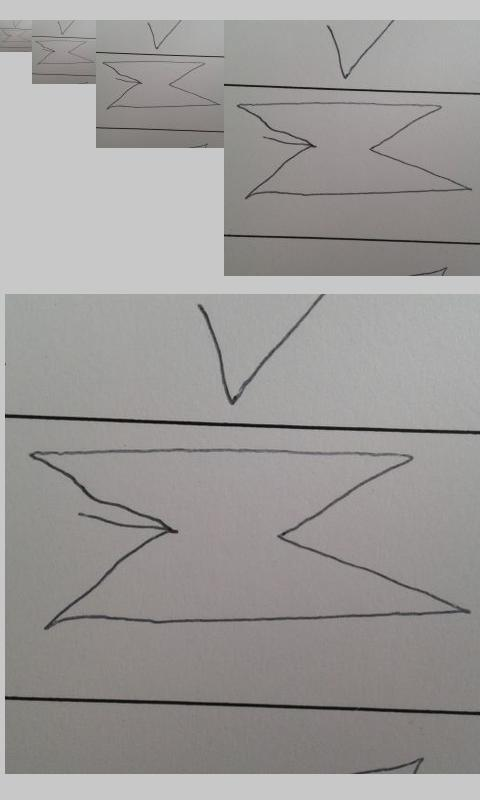edit_text: (30, 447, 470, 631), (235, 100, 473, 197), (101, 60, 221, 109), (35, 39, 94, 65), (2, 30, 30, 43)
